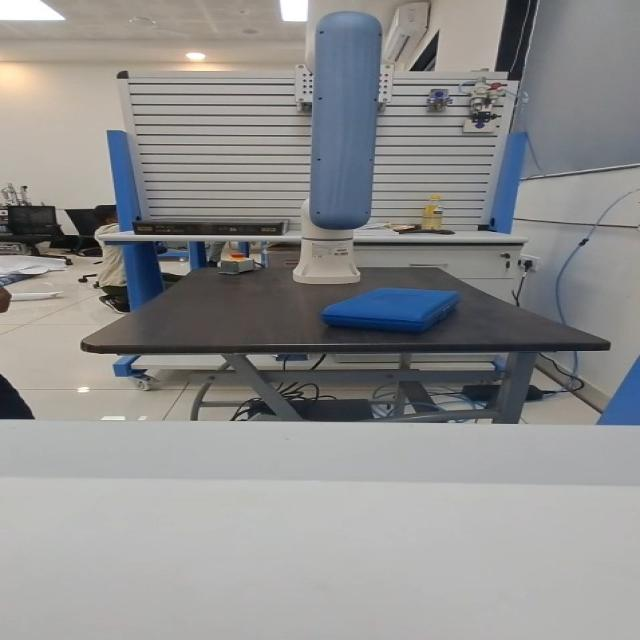top-surface: (354, 291, 440, 309)
